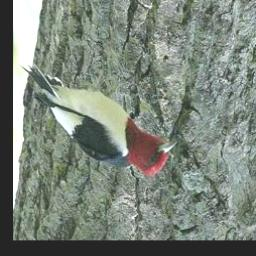Woodpecker: (15, 51, 183, 186)
